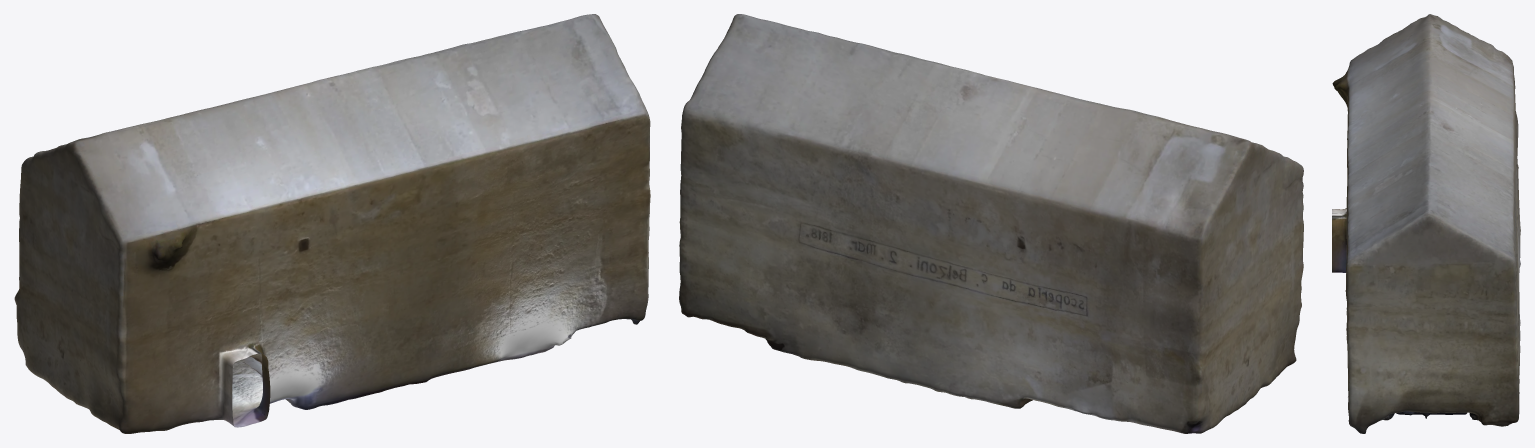
The picture shows the model from 3 angles, left to right: view 1: azimuth 30°, elevation 25°; view 2: azimuth 150°, elevation 25°; view 3: azimuth 270°, elevation 25°; orthographic projection. The views are drawn at different scales.
Visible parts, largest first — view 1: EGY_001_M8_KhafreBurialChamber_LP; view 2: EGY_001_M8_KhafreBurialChamber_LP; view 3: EGY_001_M8_KhafreBurialChamber_LP.
Boxes of the visible parts, <box> form: EGY_001_M8_KhafreBurialChamber_LP: <box>14,14,650,433</box>; EGY_001_M8_KhafreBurialChamber_LP: <box>679,14,1303,433</box>; EGY_001_M8_KhafreBurialChamber_LP: <box>1332,14,1520,433</box>.
Bounding box in the file's own units: 8.47 × 4.34 × 3.29.
Materials: 1 (1 with a texture image).
